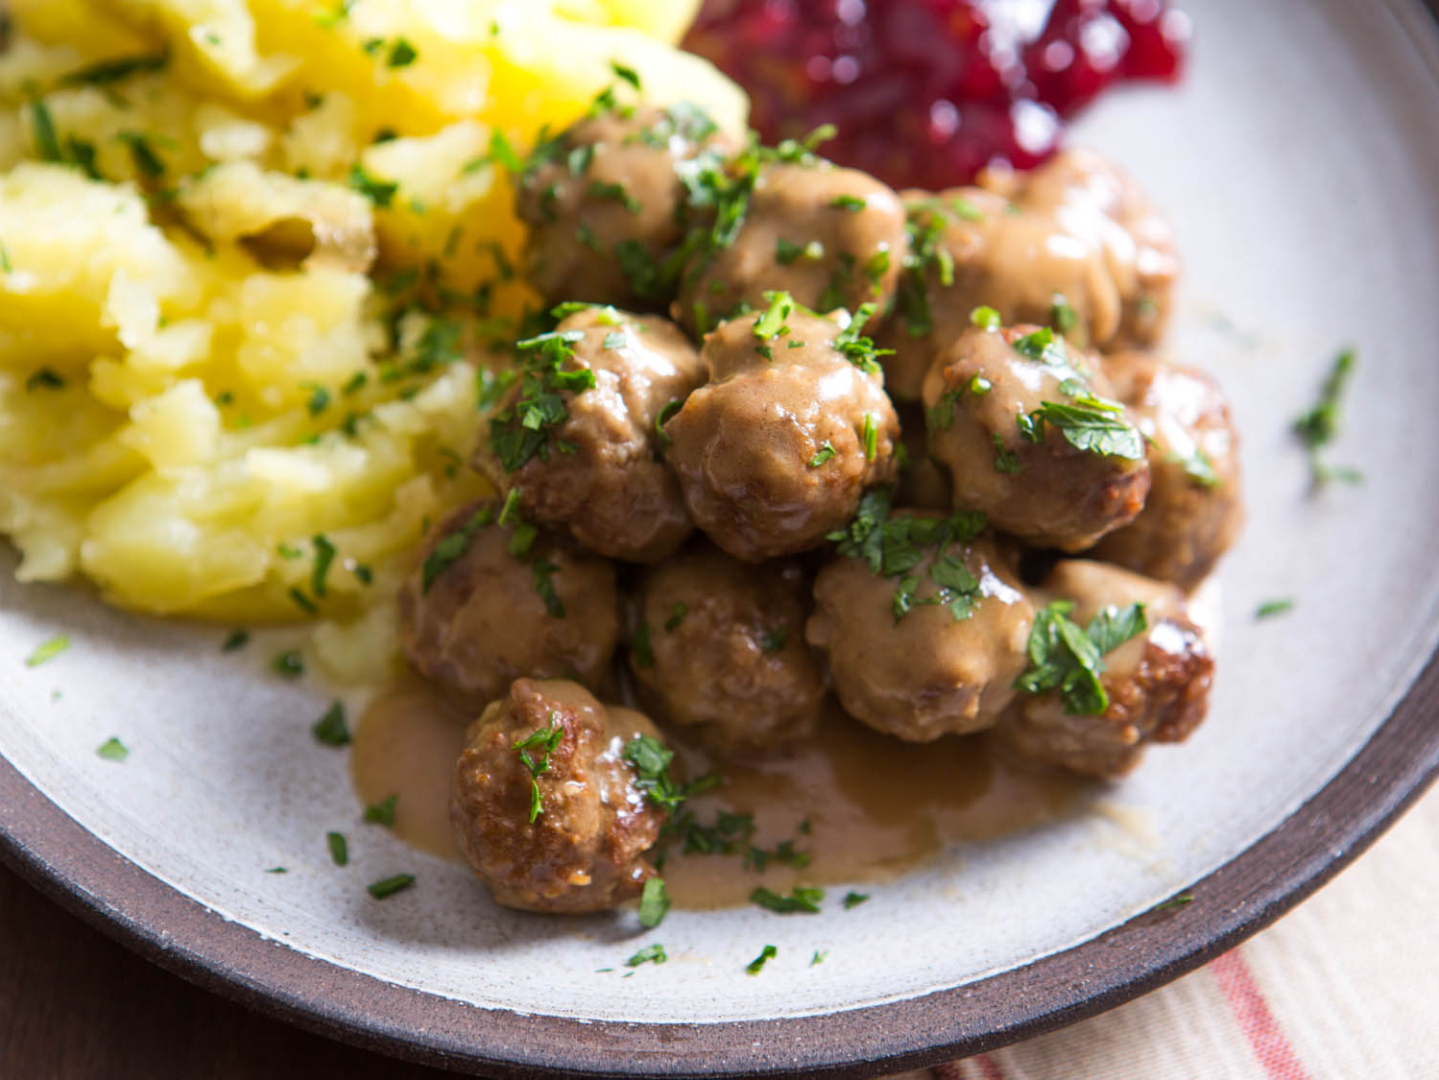boiled potatoes: (22, 15, 443, 628)
meatballs: (489, 113, 1227, 867)
